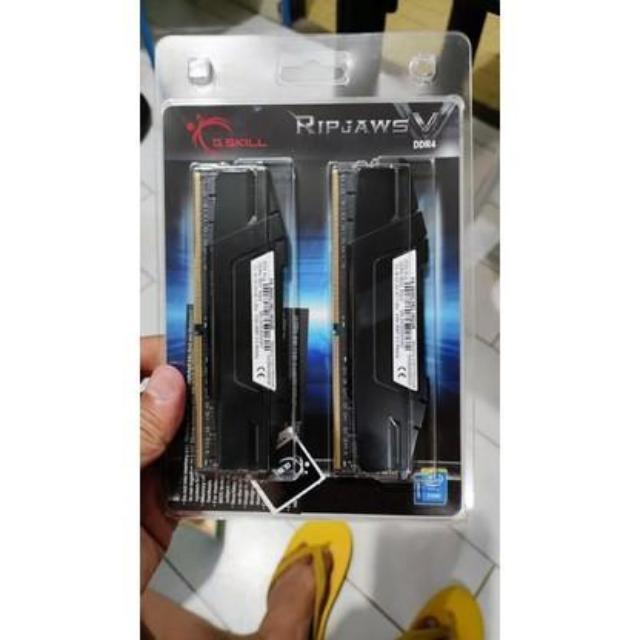RAM: (332, 160, 420, 482), (188, 153, 274, 476)
